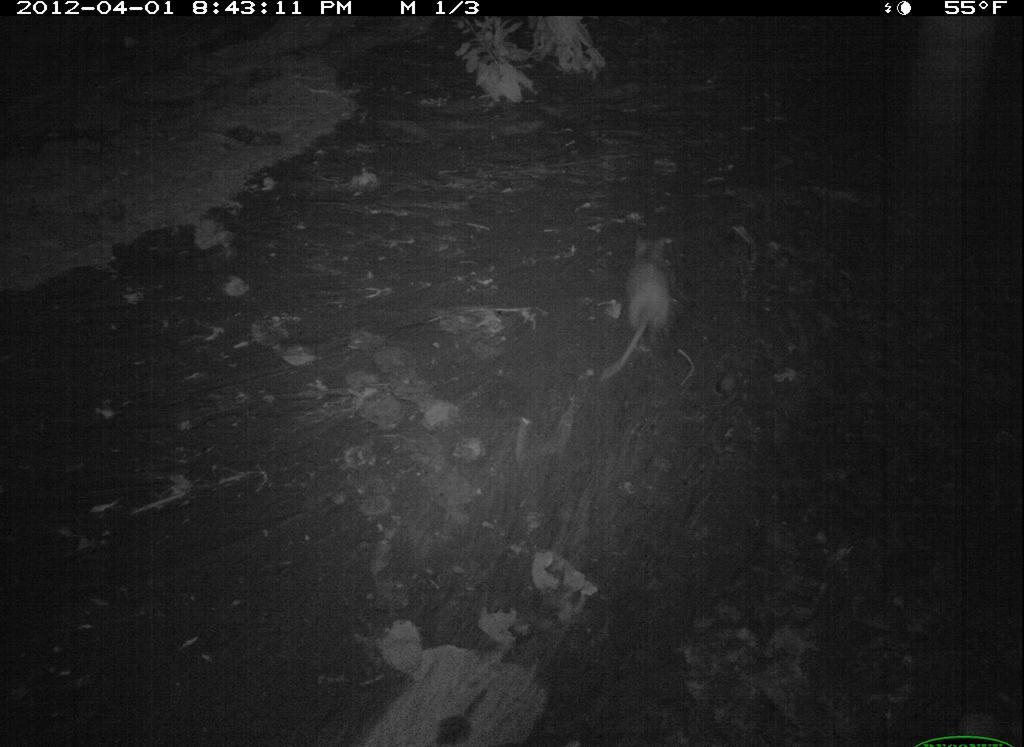opossum: (596, 219, 698, 411)
